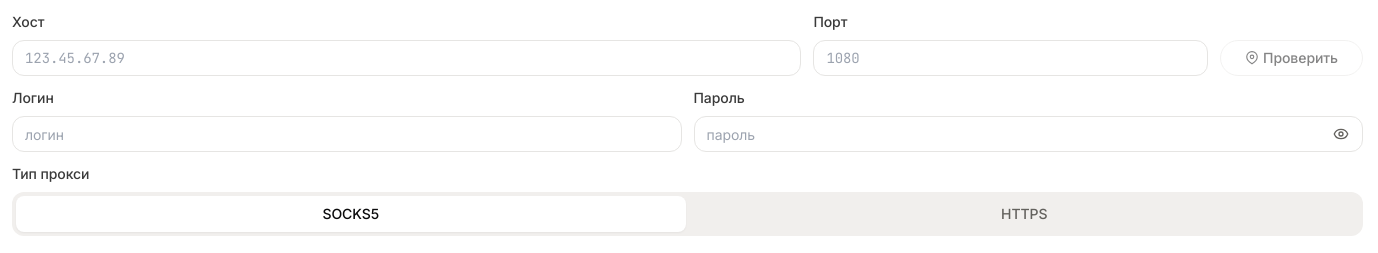
Test: a pasted proxy line fills port and credentials, a typed colon jumps to port
Click the field with placeholder "123.45.67.89".
click(407, 58)  # box [12, 40, 801, 76]
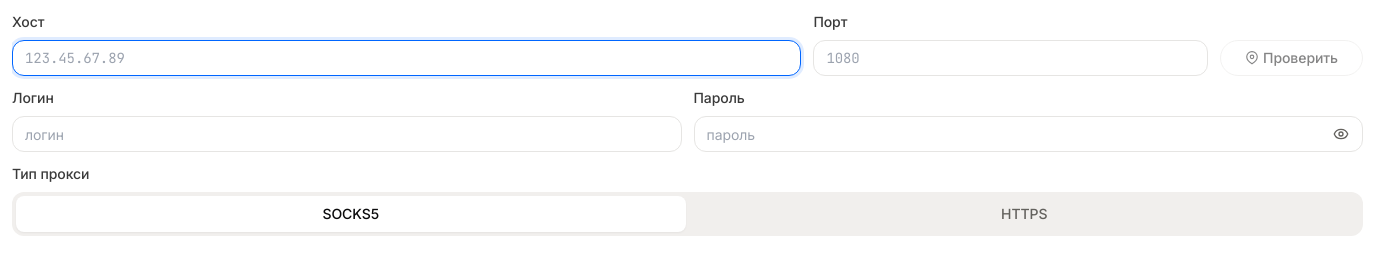
Type keys "1.2.3.4:8080:alice:s3cret"
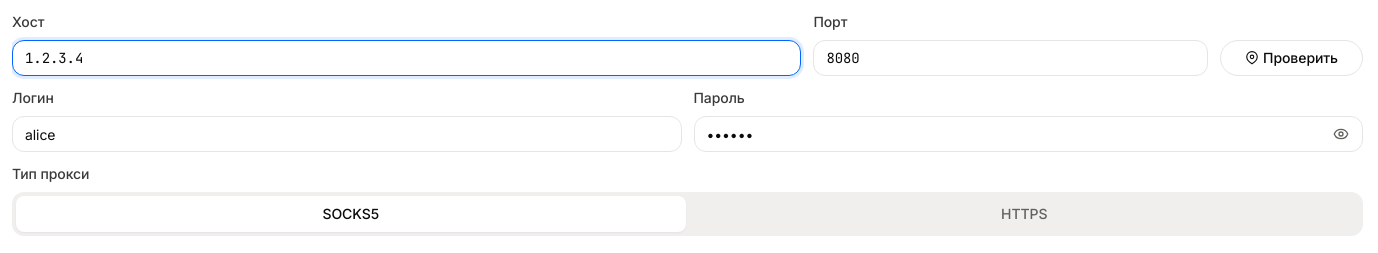
Now the field with placeholder "123.45.67.89" holds "1.2.3.4"
Now the field with placeholder "1080" holds "8080", box [813, 40, 1208, 76]
Now the field with placeholder "Логин" holds "alice", box [12, 116, 682, 152]
Clear the field with placeholder "123.45.67.89" at (407, 58), box [12, 40, 801, 76]
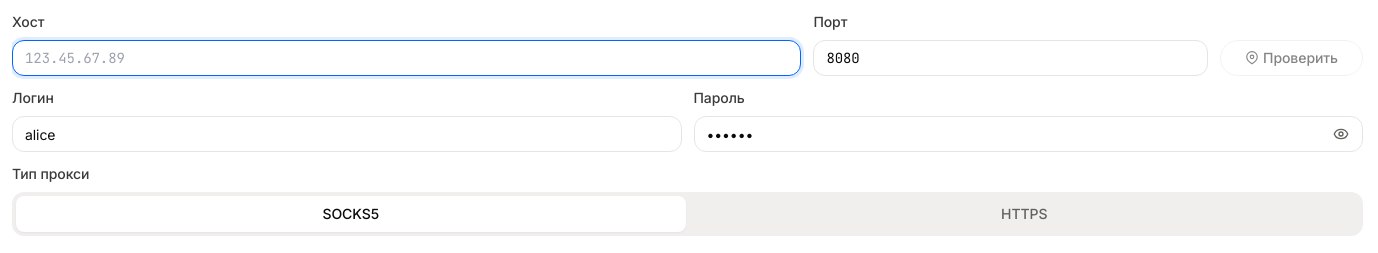
Clear the field with placeholder "1080" at (1011, 58), box [813, 40, 1208, 76]
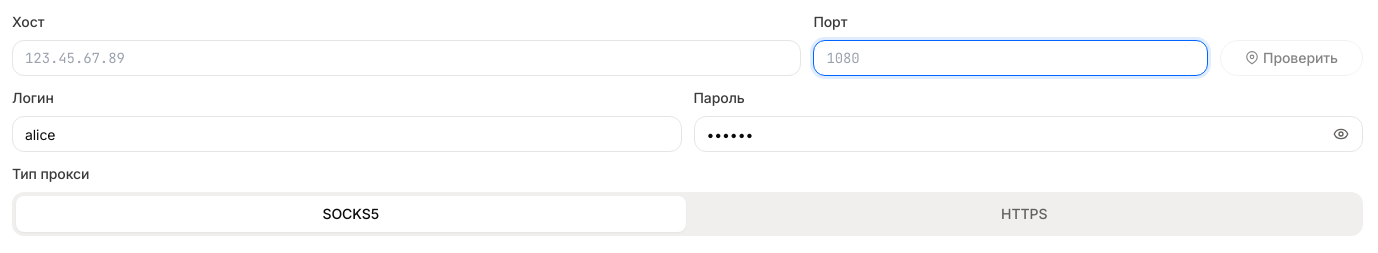
Type "5.6.7.8:" into the field with placeholder "123.45.67.89".
click(407, 58); type("5.6.7.8:")  # box [12, 40, 801, 76]
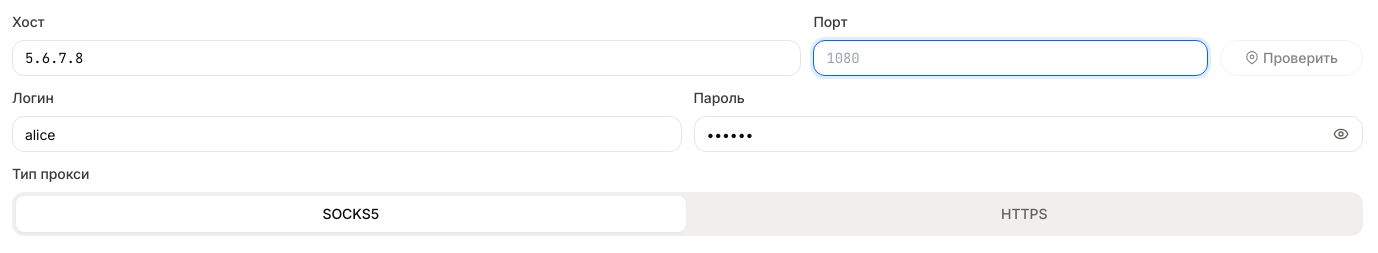
Now the field with placeholder "123.45.67.89" holds "5.6.7.8", box [12, 40, 801, 76]
Type keys "3128"
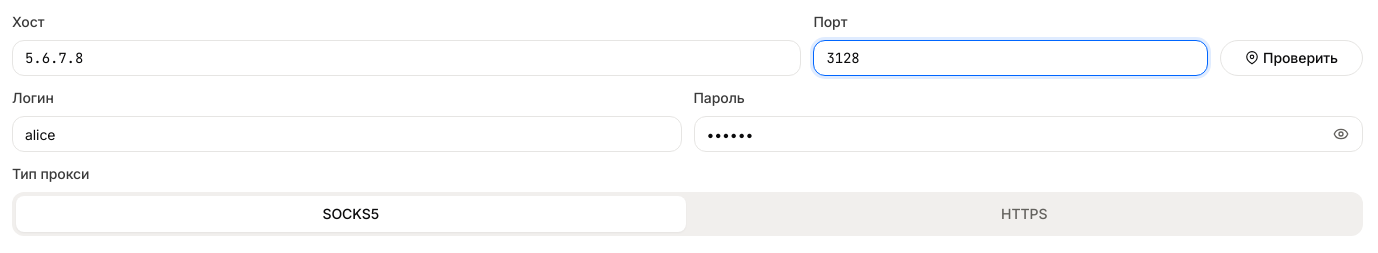
Now the field with placeholder "1080" holds "3128", box [813, 40, 1208, 76]
